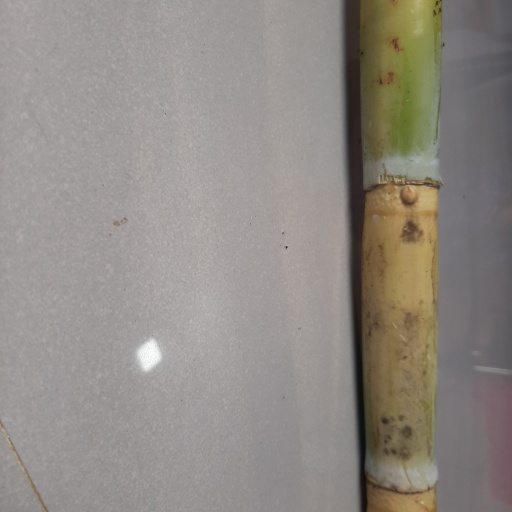Bud: (399, 183, 420, 205)
